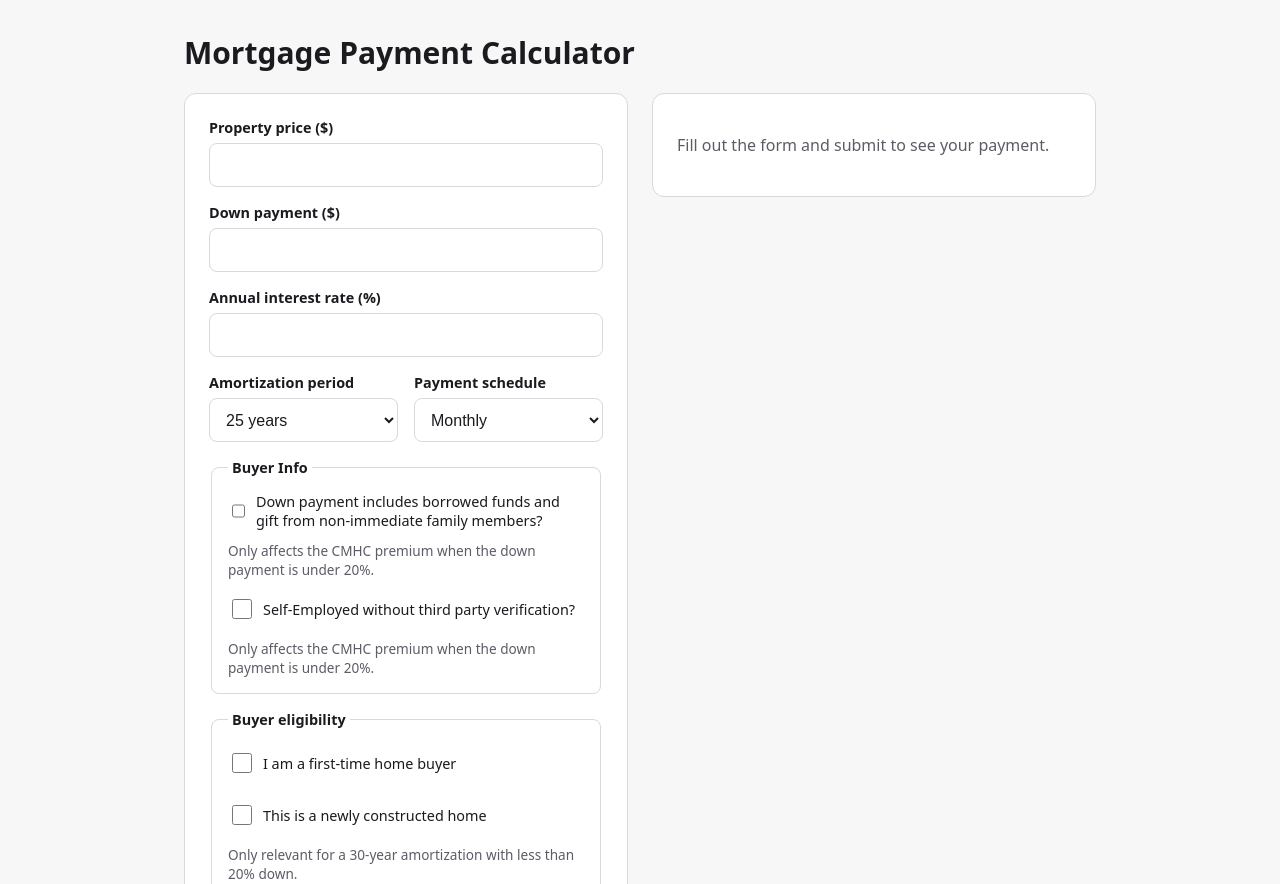
App › shows the mortgage payment and CMHC payment separately, adding to the total (insured)
Type "500000" into the field labelled "Property price ($)" at (406, 165), box [209,143,603,187]
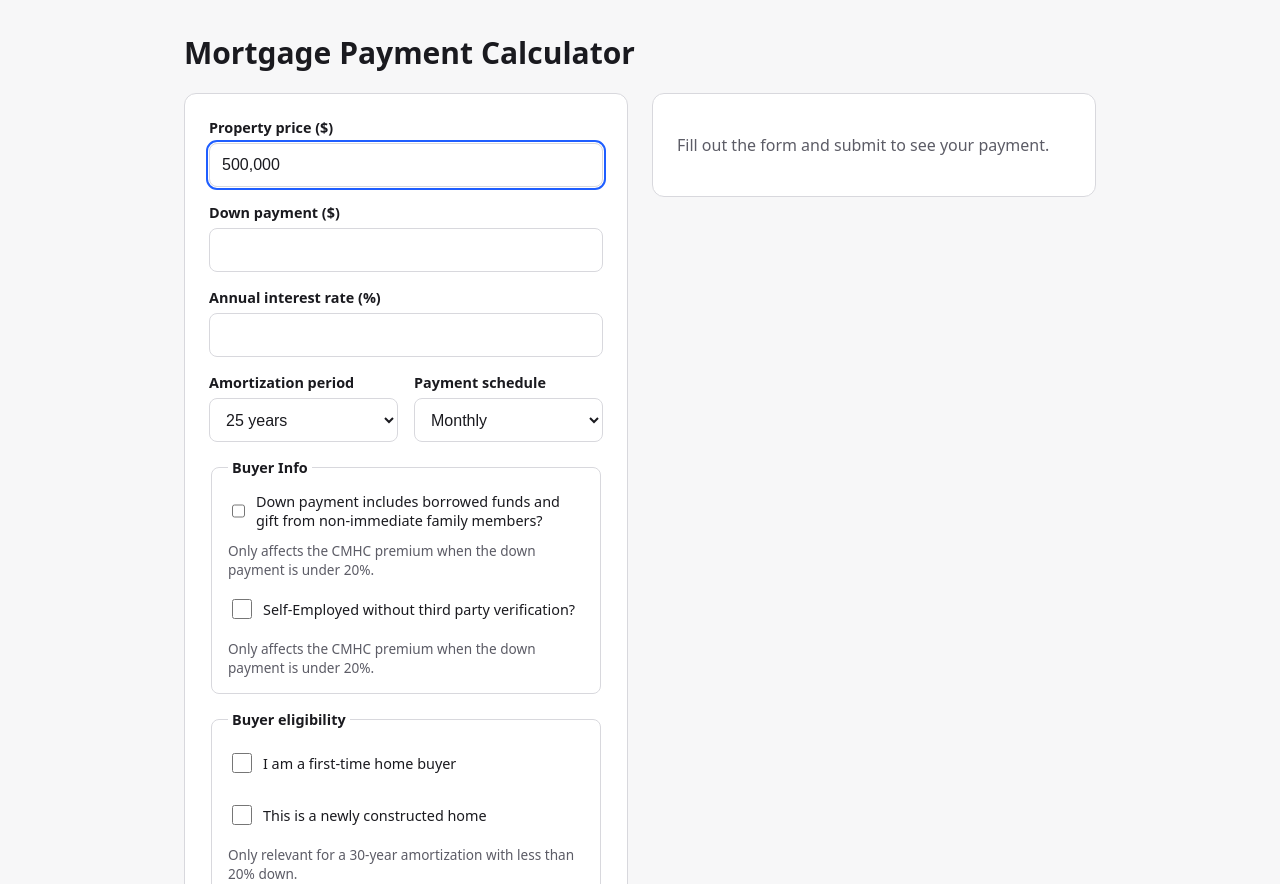
Type "50000" into the field labelled "Down payment ($)" at (406, 250), box [209,228,603,272]
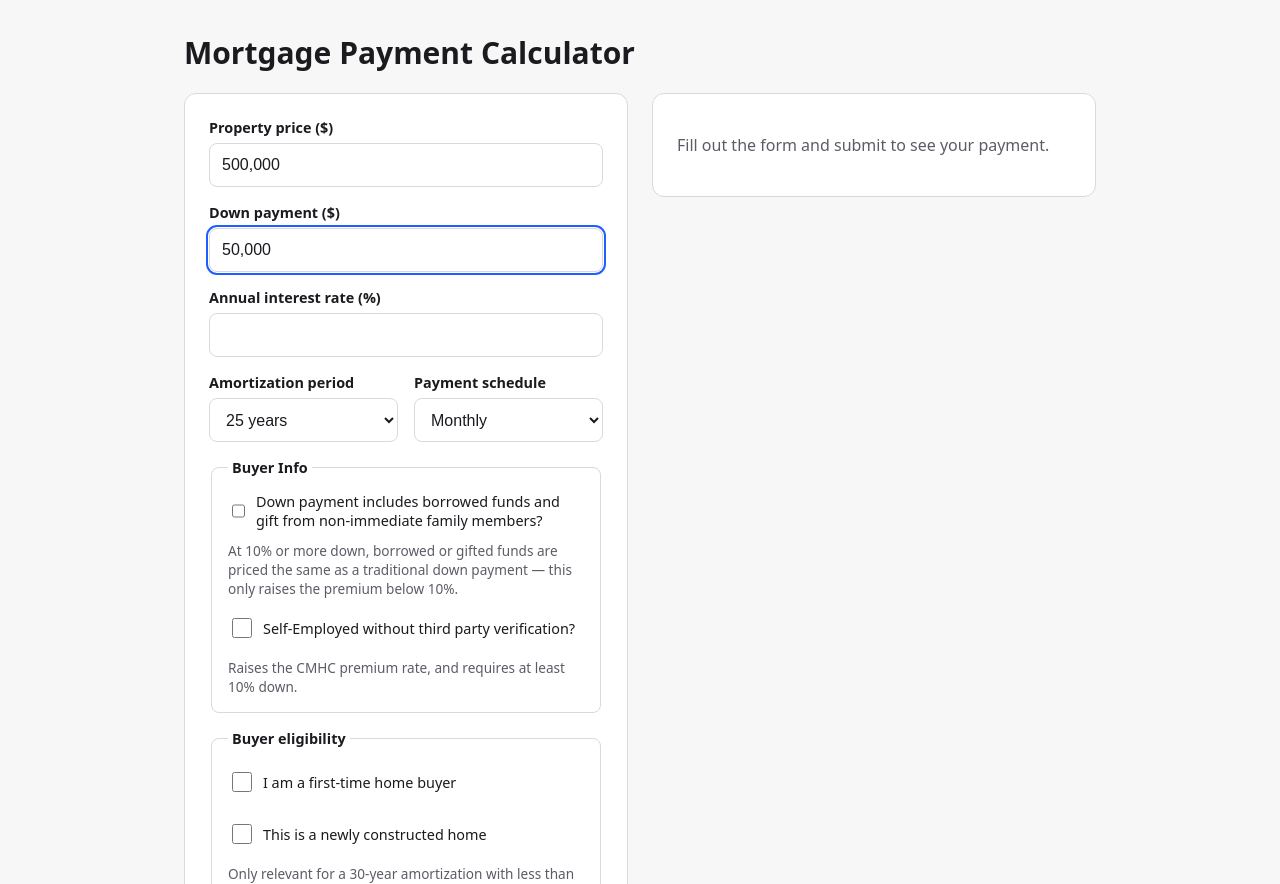
Type "5" into the number field labelled "Annual interest rate (%)" at (406, 335), box [209,313,603,357]
(page scrolled)
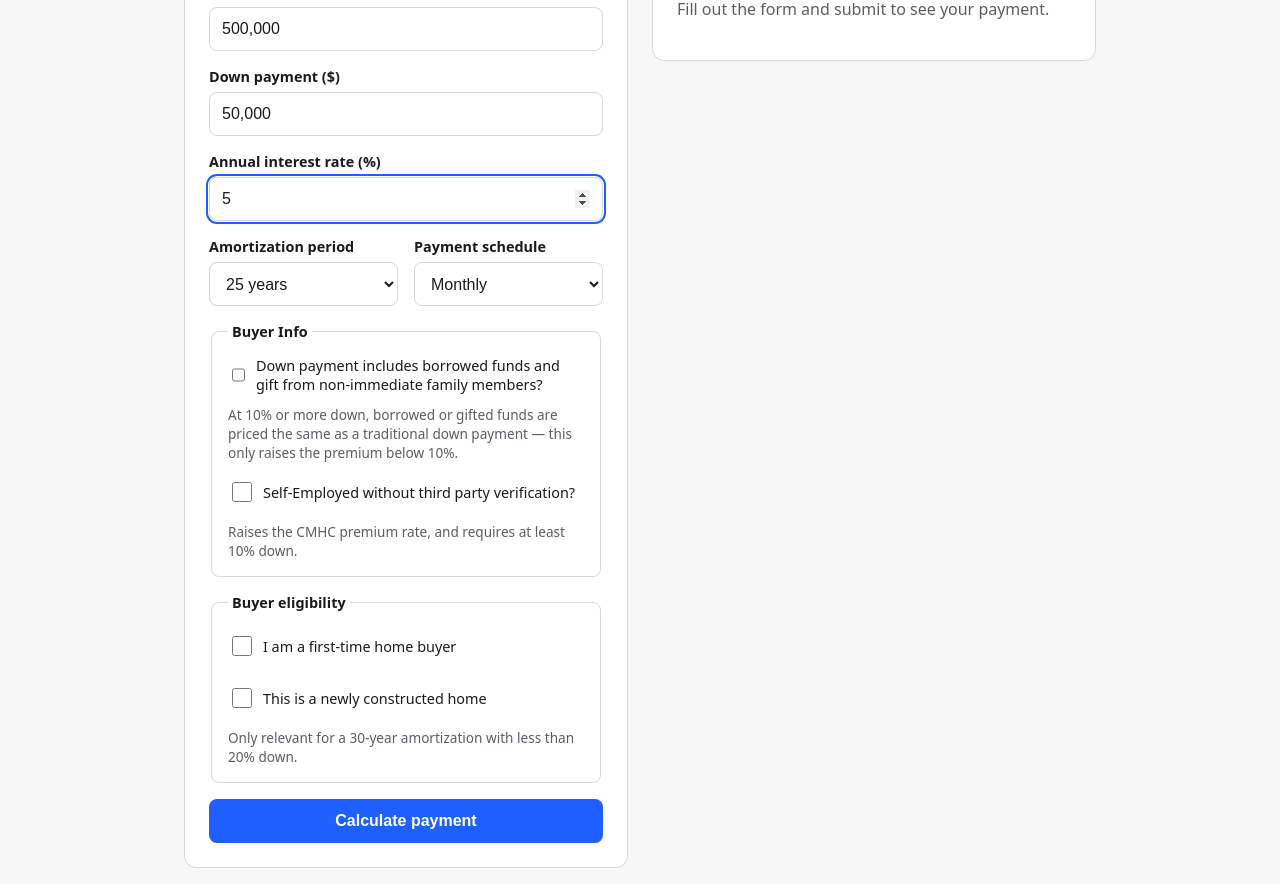
Click the button "Calculate payment" at (406, 821), box [209,799,603,843]
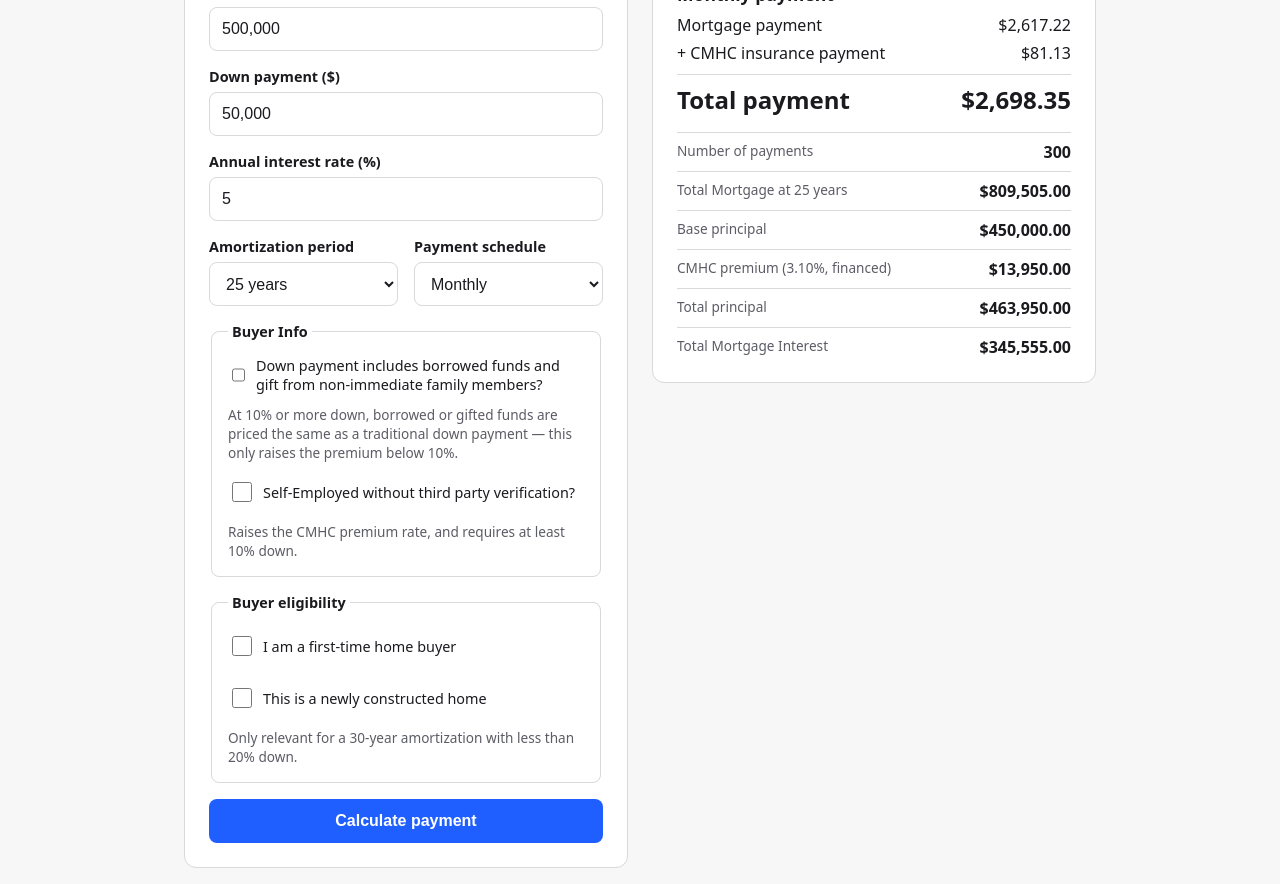
Now the text "Mortgage payment" is shown, box [677,14,822,36]
Now the text "$2,617.22" is shown, box [998,14,1071,36]
Now the text "+ CMHC insurance payment" is shown, box [677,42,885,64]
